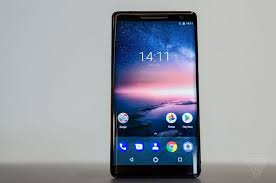nokia: (106, 8, 204, 180)
